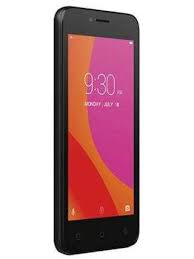lenovo: (50, 4, 140, 255)
